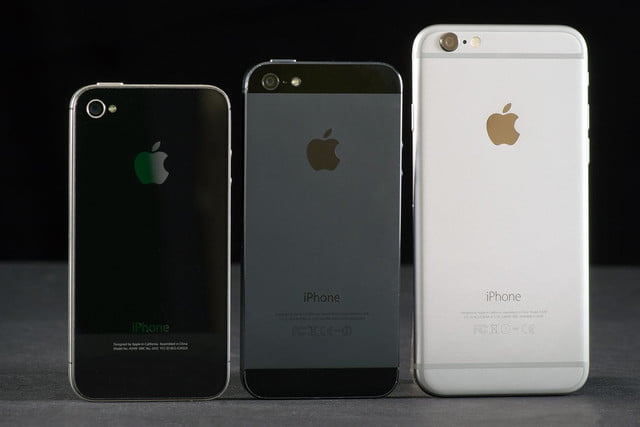apple: (290, 120, 352, 179), (128, 133, 183, 199), (480, 100, 529, 159)
